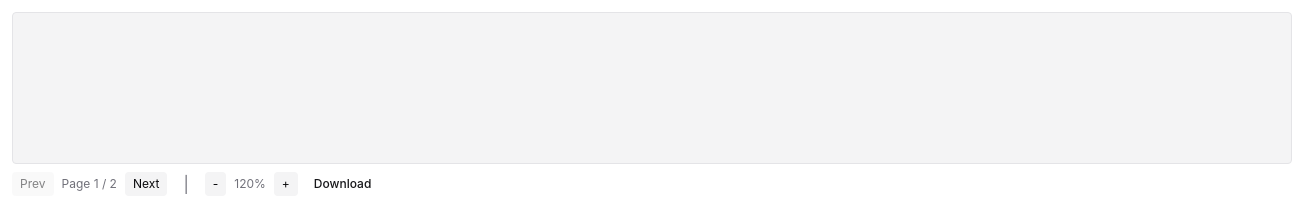
Test: AssetViewer › pages and zooms through the pdf
This screenshot has width=1292, height=213.
Expected: the text "Page 1 / 2" is shown, [62,176,117,192]
Expected: the button "Prev" is disabled, [12,172,54,196]
Click the button "Next": (146,184) [125,172,167,196]
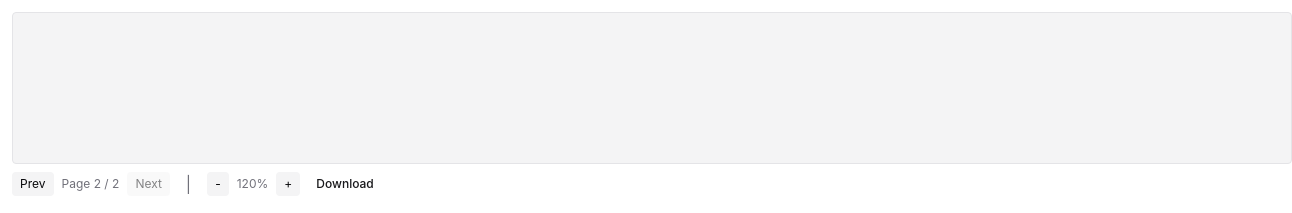
Expected: the text "Page 2 / 2" is shown, [62,176,119,192]
Expected: the button "Next" is disabled, [127,172,170,196]
Click the button "Prev": (33,184) [12,172,54,196]
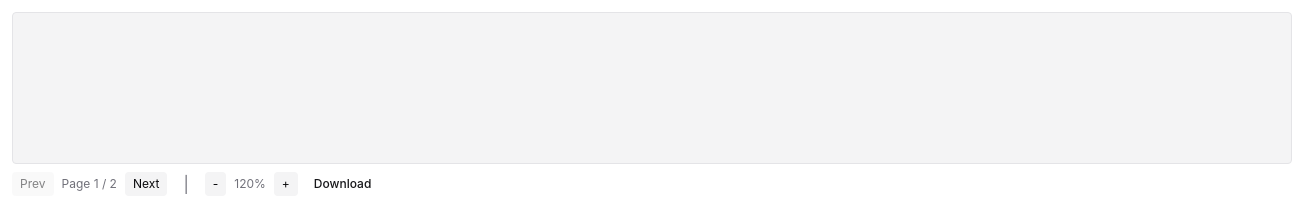
Expected: the text "120%" is shown, [234,176,266,192]
Expected: the text "Page 1 / 2" is shown, [62,176,117,192]
Click the button named "Zoom in": (286,184) [274,172,298,196]
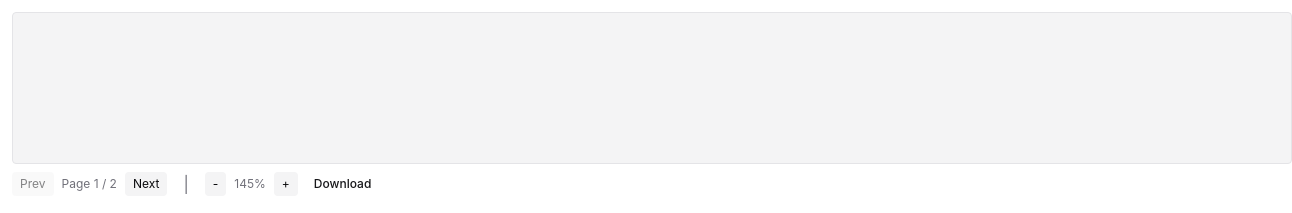
Expected: the text "145%" is shown, [234,176,266,192]
Click the button named "Zoom out": (216,184) [205,172,226,196]
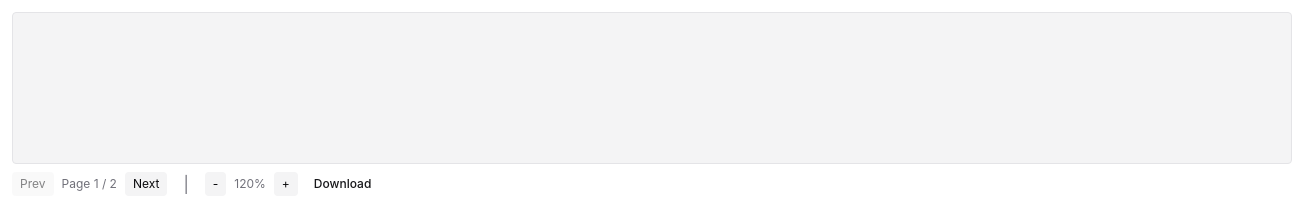
Expected: the text "120%" is shown, [234,176,266,192]
